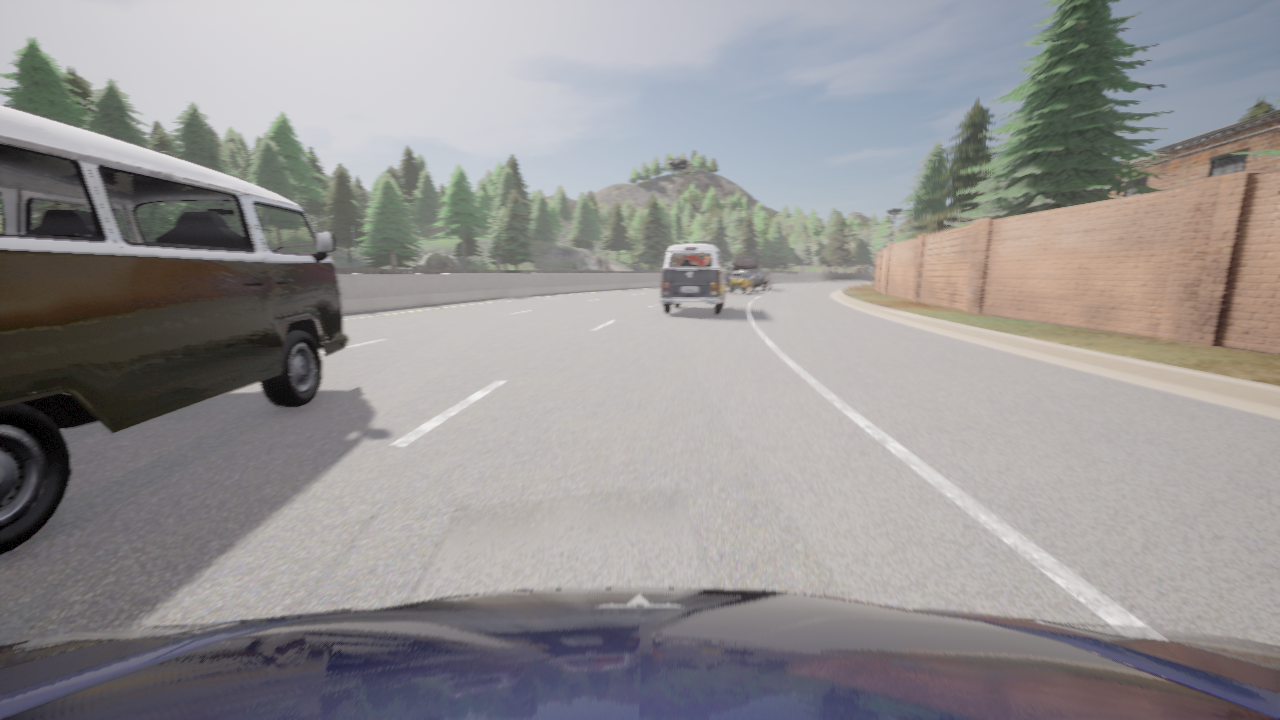cyclist: (0, 588, 1279, 719), (660, 244, 730, 314), (725, 255, 758, 286), (729, 271, 753, 293), (746, 270, 772, 290)
